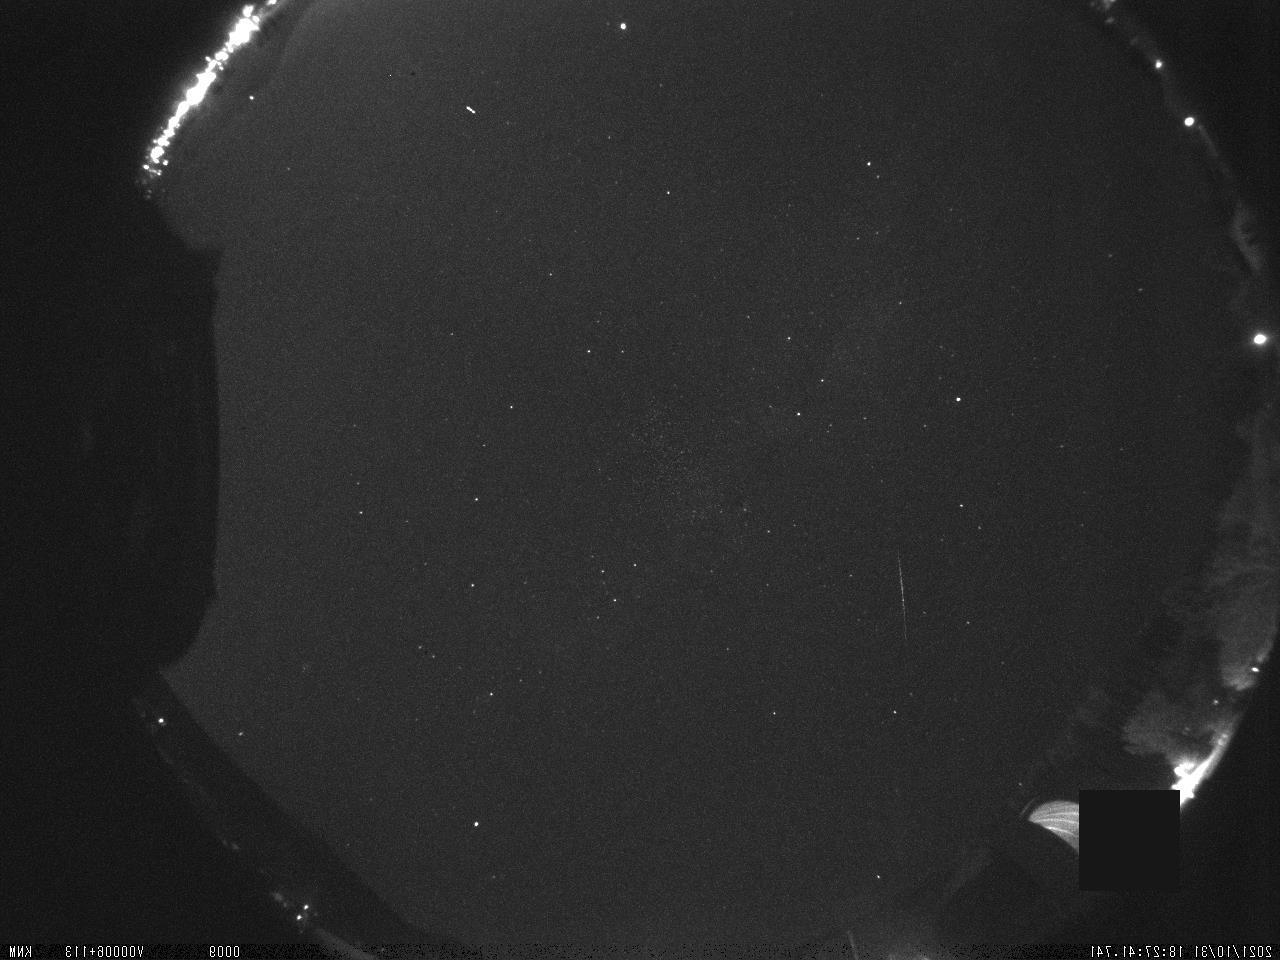meteor: (878, 542, 927, 661)
